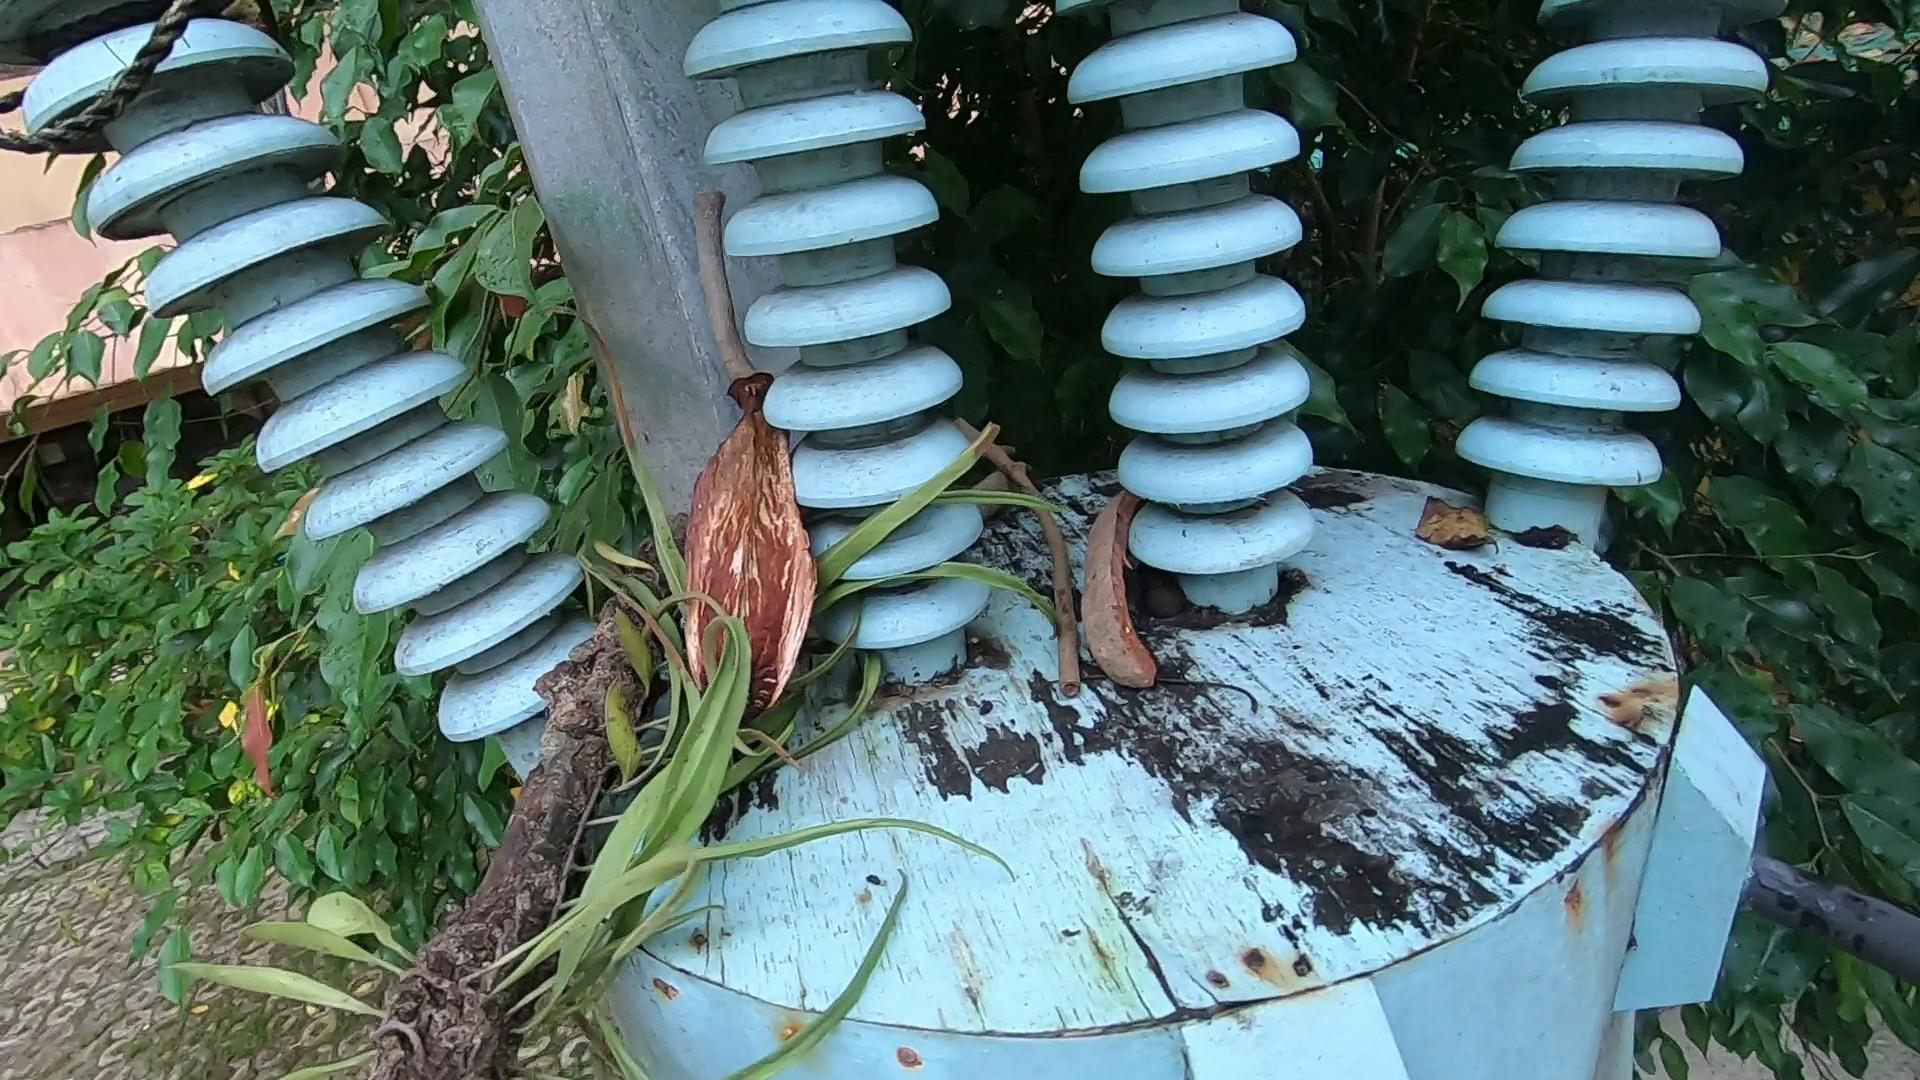branch with leaves: (1, 480, 967, 1080)
leaf: (1411, 463, 1516, 592)
mahogany fruit: (684, 373, 860, 761), (1089, 476, 1182, 785)
tree branch: (940, 404, 1083, 692), (675, 166, 793, 386)
